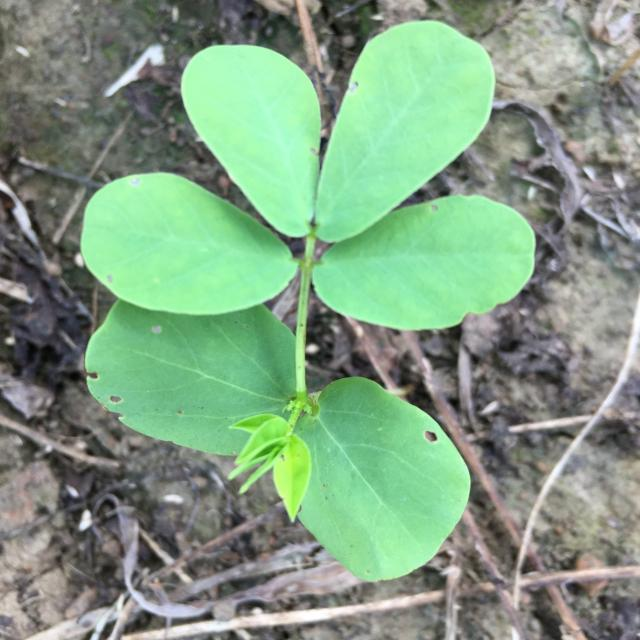Sicklepod: (80, 20, 536, 582)
